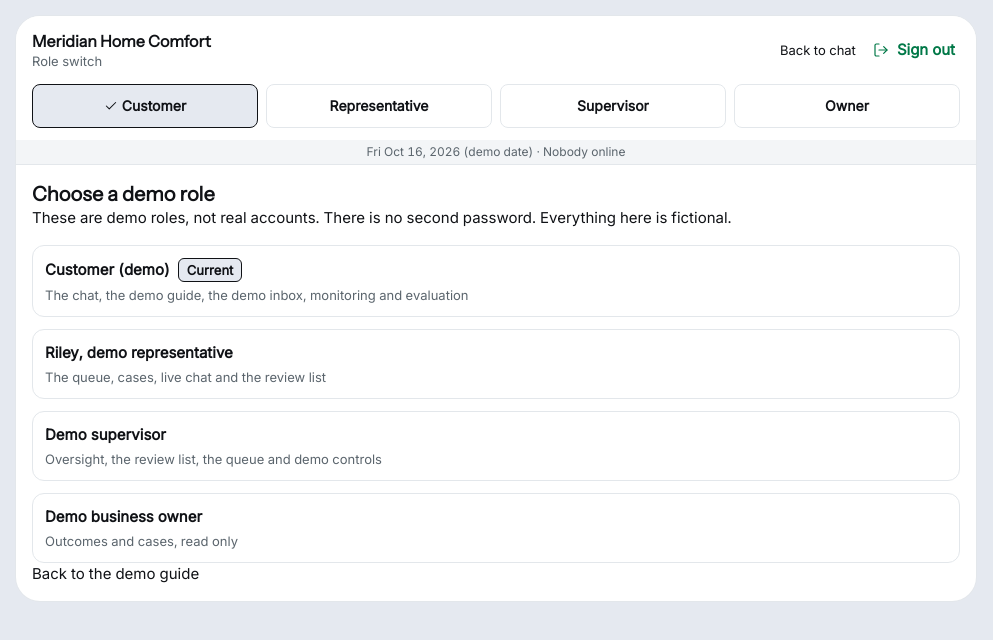
Scr04 role page › while switching: chosen shows Switching… and all are disabled
Click the button "Demo supervisor" at (105, 434), box 32,411 -> 960,481
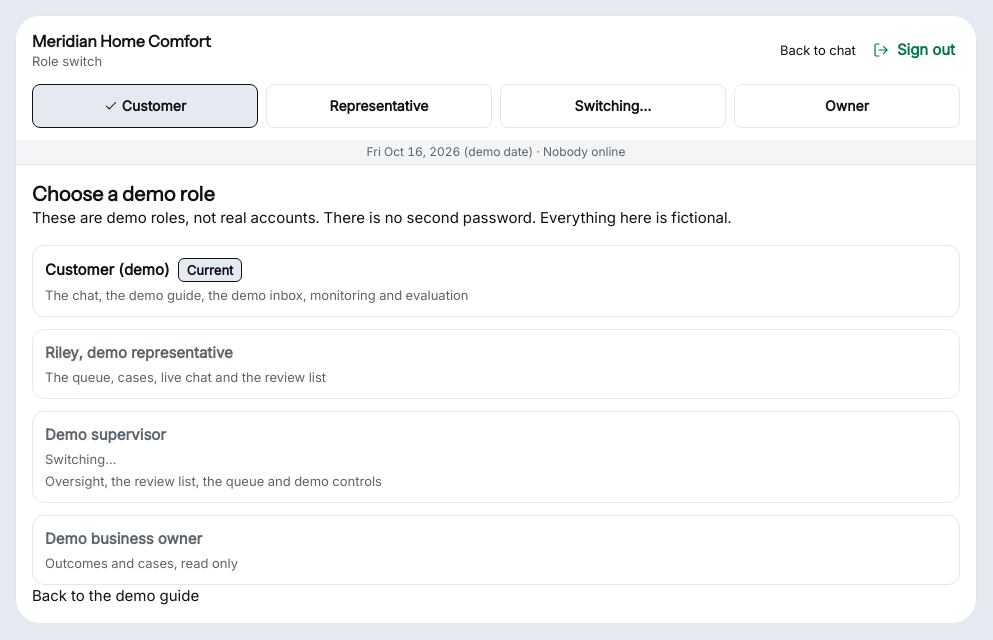
Expected: the text "Switching…" below "Customer (demo)" is shown, 45,451 -> 116,467
